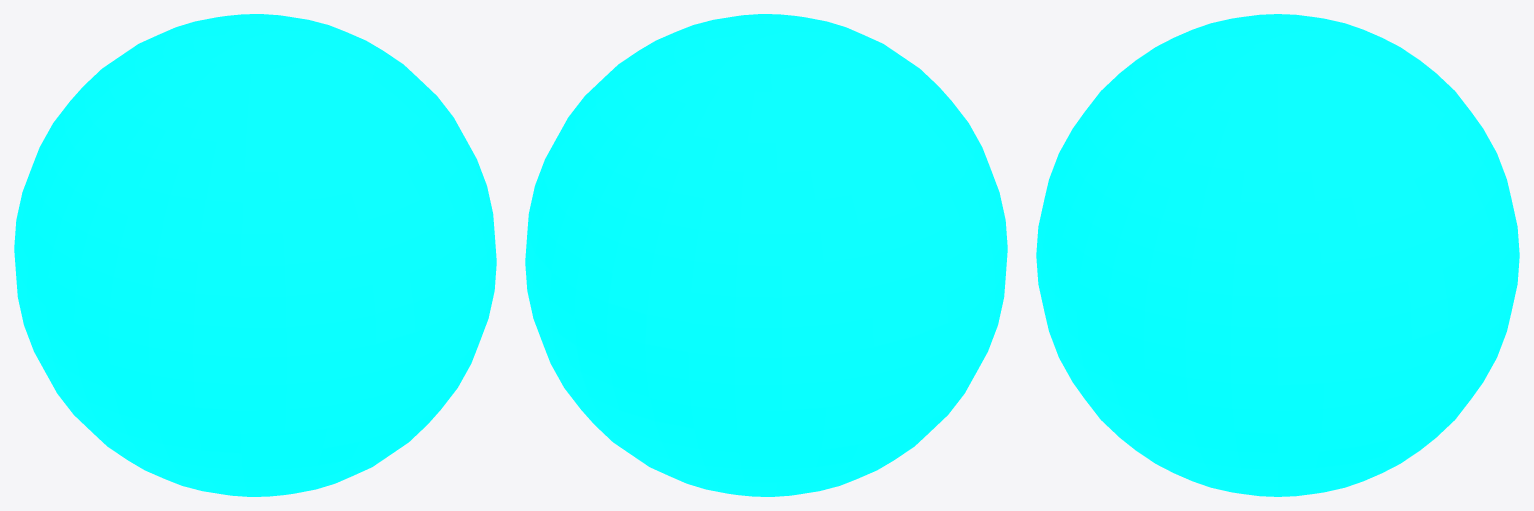
The model's file is flame_0g.glb.
3 views of the same model, side by side, from view 1: azimuth 30°, elevation 25°; view 2: azimuth 150°, elevation 25°; view 3: azimuth 270°, elevation 25° (orthographic).
Parts seen in each view (by area): view 1: Flame_0g_Diffusion_Shell; view 2: Flame_0g_Diffusion_Shell; view 3: Flame_0g_Diffusion_Shell.
Boxes of the visible parts, x1,y1,x2,y2 form: Flame_0g_Diffusion_Shell: [14, 14, 496, 496]; Flame_0g_Diffusion_Shell: [525, 14, 1007, 496]; Flame_0g_Diffusion_Shell: [1036, 14, 1519, 496].
Size of the model in its own units: 1.3 by 1.3 by 1.3.
